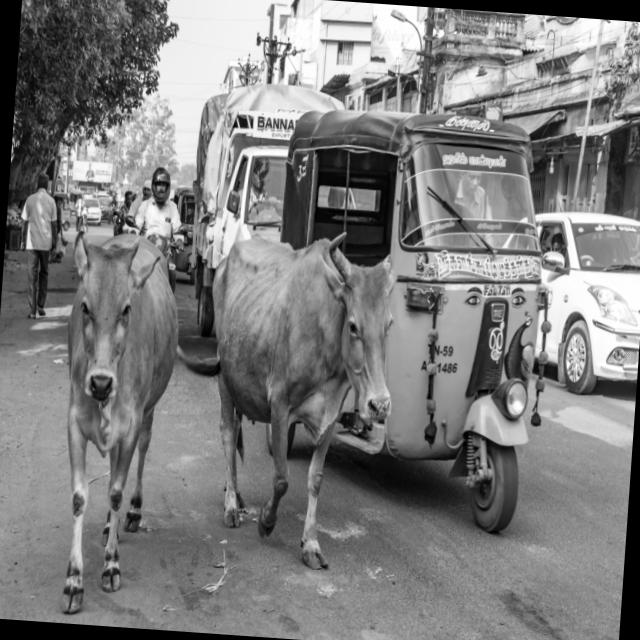animal: (178, 232, 397, 569), (61, 233, 178, 614)
auto: (282, 110, 542, 531)
bus: (538, 211, 640, 393)
car: (191, 84, 335, 336)
person: (135, 166, 179, 292), (19, 171, 55, 318)
